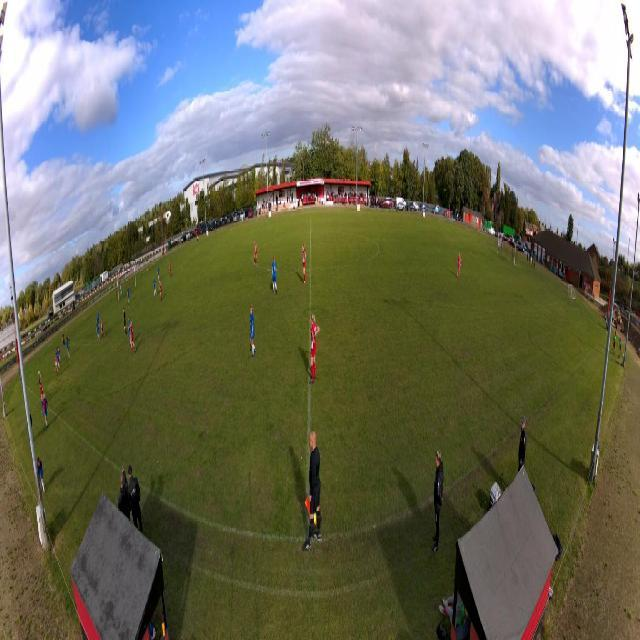ball: (38, 370, 41, 376)
player: (309, 313, 321, 385), (250, 304, 257, 360), (271, 255, 278, 295), (130, 319, 137, 355), (302, 243, 307, 285), (456, 251, 462, 279), (128, 315, 133, 347), (53, 352, 59, 378), (123, 306, 128, 337), (100, 316, 106, 341), (38, 373, 43, 403), (96, 319, 101, 341), (56, 347, 61, 369), (254, 239, 258, 264), (159, 277, 163, 301), (66, 338, 70, 360), (153, 276, 157, 297), (127, 285, 131, 306), (97, 309, 101, 330), (168, 259, 172, 278), (119, 283, 123, 301), (58, 345, 61, 365), (157, 264, 160, 282)
